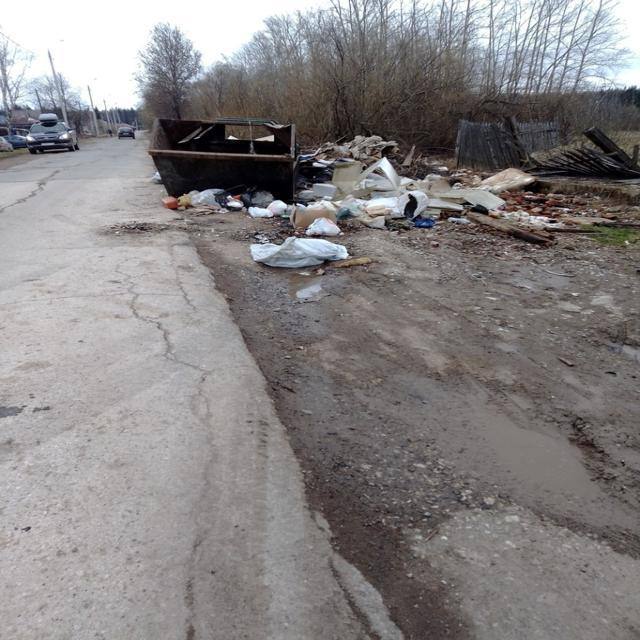lixeira: (291, 135, 402, 231), (406, 168, 536, 227), (164, 192, 290, 217), (255, 238, 348, 265)
